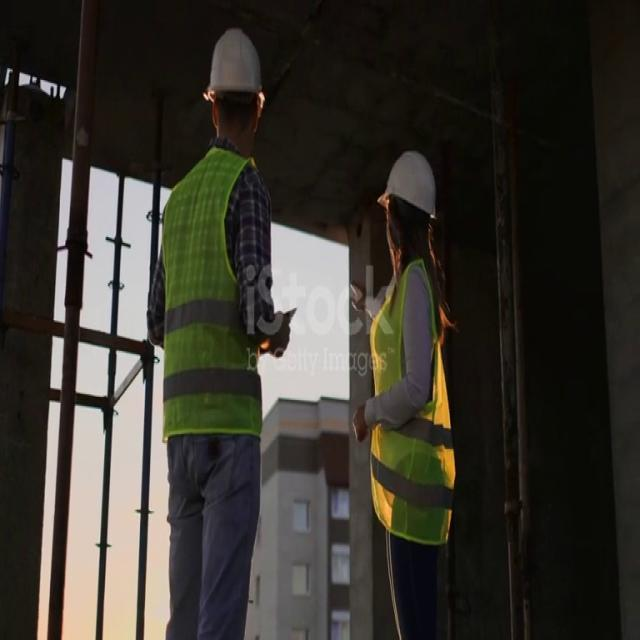capacete: (194, 18, 273, 129), (368, 136, 441, 227)
